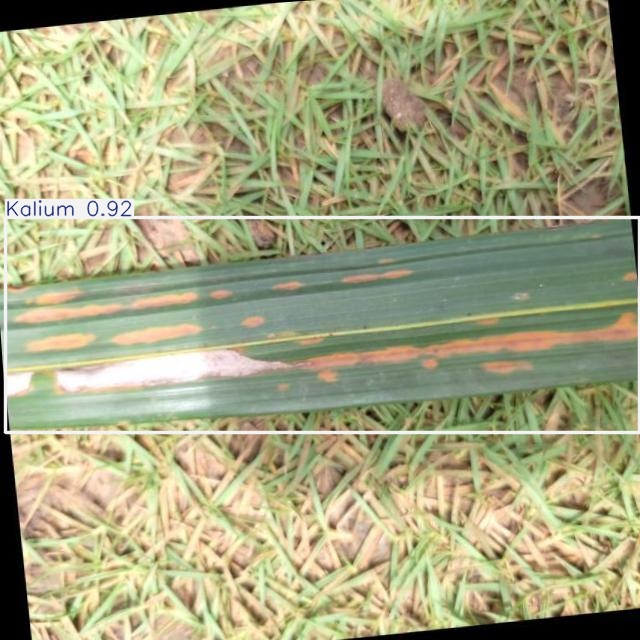Kalium: (5, 218, 640, 432)
